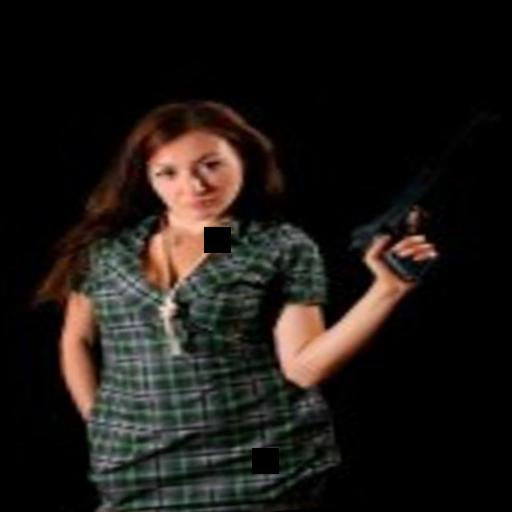Handgun: (328, 175, 441, 299)
